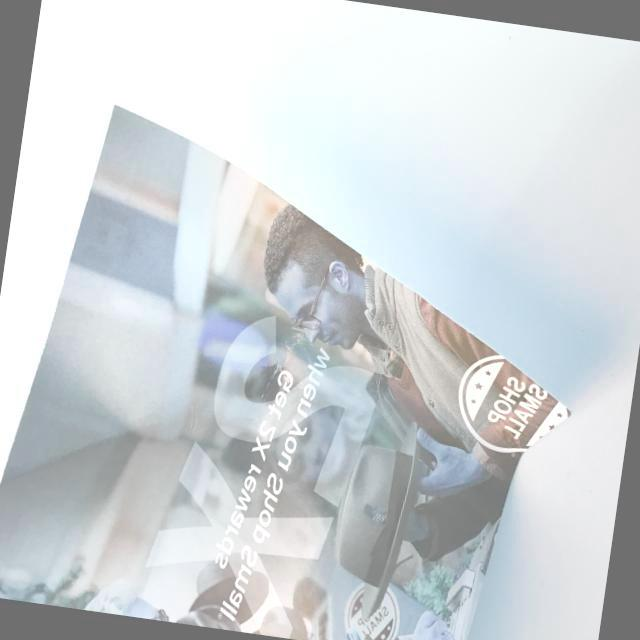paper: (0, 84, 622, 640)
